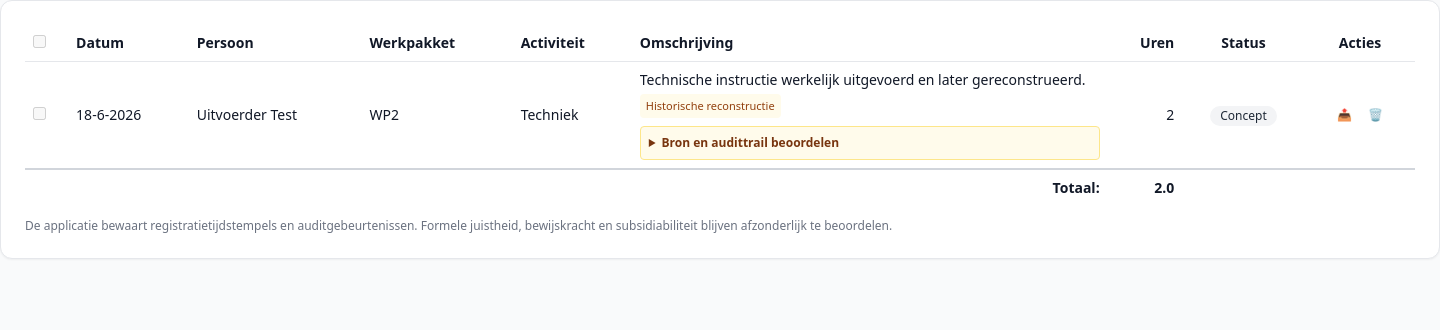
HoursList historische reconstructies › toont een serverconflict aan de beheerder en refresht niet alsof indienen gelukt is
This screenshot has width=1440, height=330.
Click the button named "indienen historische reconstructie": x=1344, y=115 [1331, 103, 1358, 127]
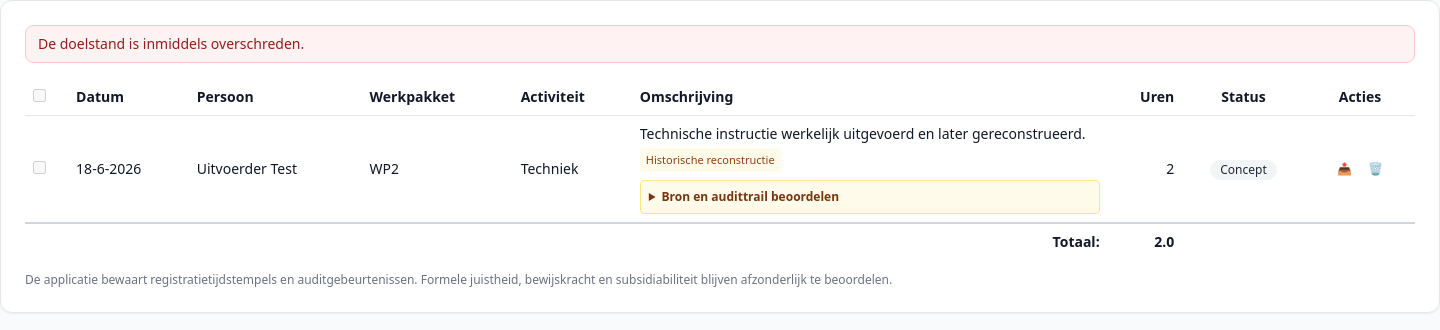
Now the message reads "De doelstand is inmiddels overschreden.", box [38, 34, 304, 53]
